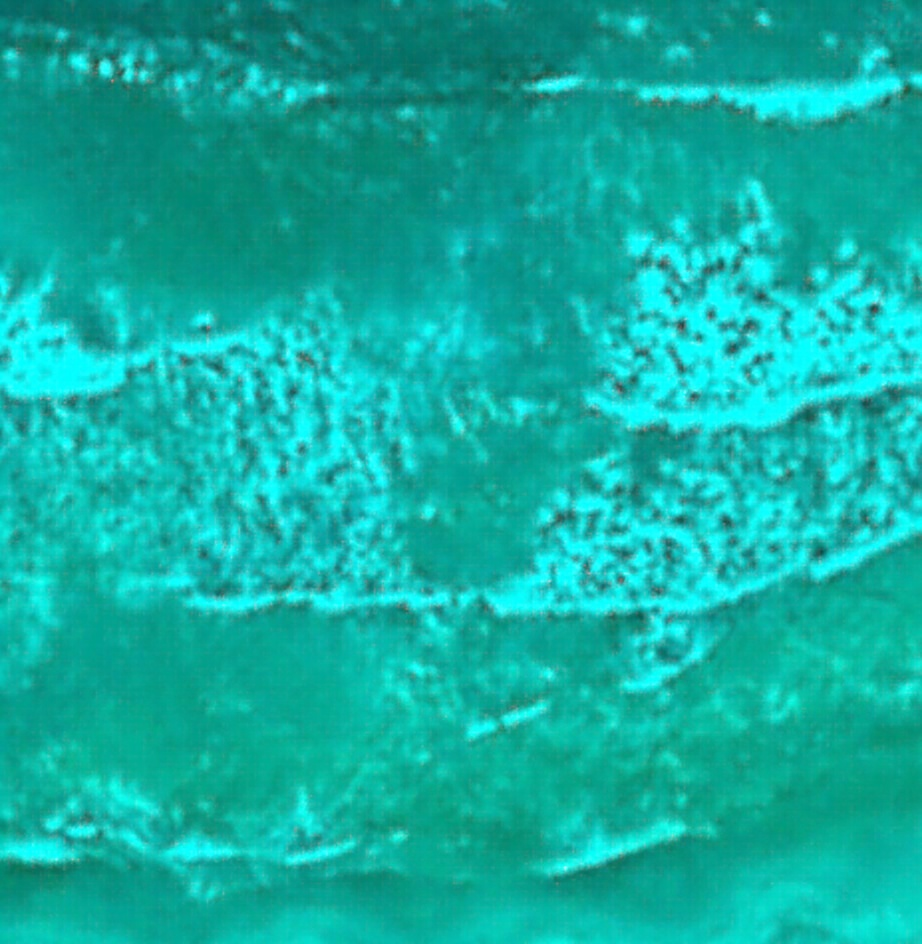rip_current: (314, 240, 631, 653)
